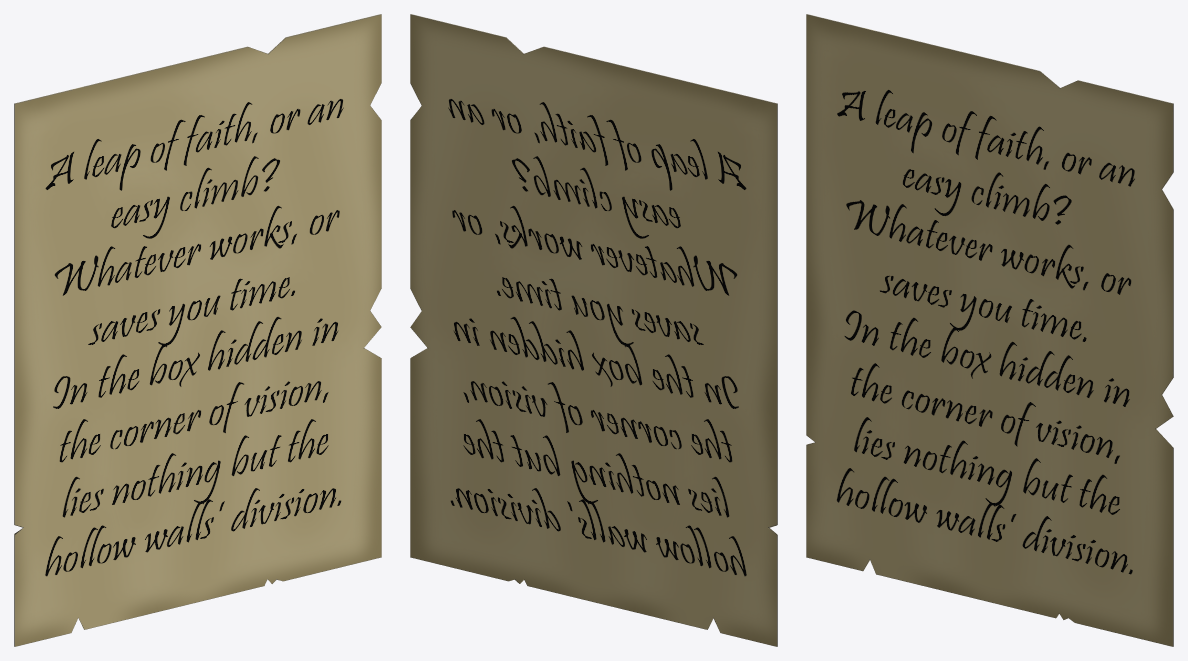
Rendered from p_note_3.fbx.
3 views of the same model, side by side, from view 1: azimuth 30°, elevation 25°; view 2: azimuth 150°, elevation 25°; view 3: azimuth 330°, elevation 25° (orthographic).
Visible parts, largest first — view 1: pCube1; view 2: pCube1; view 3: pCube1.
Boxes of the visible parts, box(x1,y1,x2,y2) form: pCube1: box(14, 14, 381, 646); pCube1: box(410, 14, 777, 646); pCube1: box(806, 14, 1173, 646).
Size of the model in its own units: 42 by 59.4 by 0.1135.
